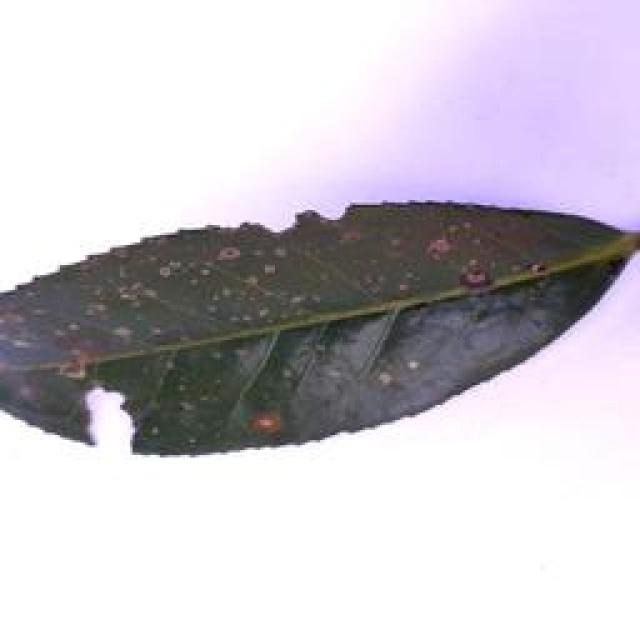Algal Leaf Spot: (0, 203, 618, 461)
